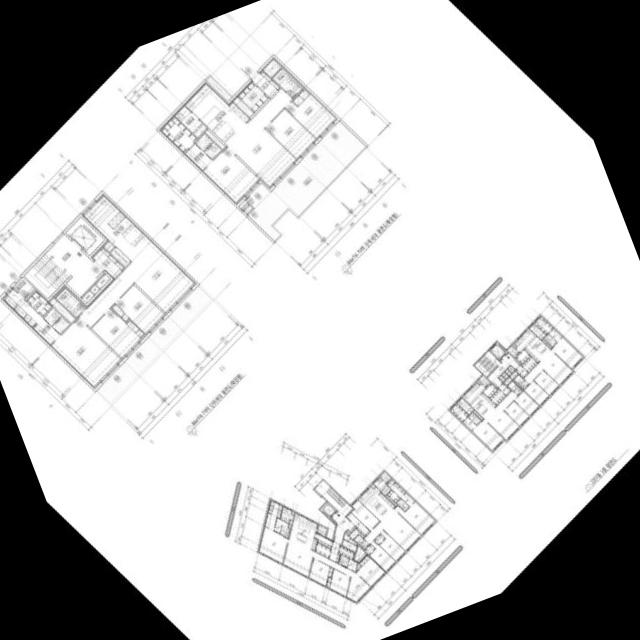background: (0, 0, 640, 640)
space_balconi: (380, 471, 392, 483), (317, 524, 327, 536)
space_bedroom: (51, 318, 122, 388), (203, 147, 260, 204), (111, 284, 166, 334), (286, 87, 338, 139), (92, 308, 146, 358), (266, 109, 317, 159), (395, 501, 436, 534), (259, 526, 288, 564), (472, 419, 504, 451), (551, 337, 584, 368), (356, 554, 386, 587), (351, 499, 379, 530), (380, 530, 406, 561), (370, 540, 396, 571), (326, 568, 351, 597), (309, 558, 334, 586), (514, 391, 540, 416), (534, 370, 560, 395), (505, 401, 530, 426), (525, 380, 550, 405), (365, 544, 375, 554), (375, 534, 385, 544)
space_dressroom: (2, 287, 43, 328), (160, 116, 197, 153), (26, 289, 52, 316), (534, 315, 553, 334), (450, 403, 469, 422), (387, 479, 406, 497), (268, 499, 283, 518), (388, 490, 400, 502)
space_elevator: (67, 217, 105, 254), (490, 342, 508, 360), (321, 502, 337, 518)
space_elevator_hall: (47, 233, 104, 297), (315, 480, 355, 544), (488, 353, 520, 387)
space_front: (92, 246, 125, 279), (252, 70, 280, 97), (347, 512, 370, 536), (521, 356, 538, 372), (490, 389, 506, 405), (339, 545, 355, 560), (316, 542, 331, 557), (330, 541, 340, 562), (499, 383, 511, 395), (516, 365, 528, 377)
space_kitchen: (82, 193, 153, 262), (185, 82, 250, 144), (358, 486, 395, 521), (462, 382, 496, 419), (514, 328, 551, 362), (290, 512, 318, 550), (516, 350, 530, 364), (484, 383, 498, 397)
space_living_room: (80, 241, 196, 327), (227, 88, 297, 188), (284, 539, 371, 602), (364, 508, 422, 551), (524, 350, 574, 385), (485, 390, 520, 440)
space_multipurpose_space: (174, 105, 208, 138)
space_other: (238, 81, 268, 112), (49, 297, 76, 323), (206, 76, 232, 101), (233, 96, 254, 117), (111, 247, 131, 267), (206, 130, 225, 149), (263, 59, 281, 77), (373, 477, 391, 495), (529, 322, 546, 340), (315, 532, 333, 549), (457, 397, 474, 414), (96, 273, 111, 288), (281, 506, 294, 523), (342, 539, 357, 551), (355, 545, 366, 561), (344, 533, 358, 545), (349, 528, 364, 539), (82, 290, 94, 303), (103, 240, 114, 251), (386, 495, 397, 505), (90, 284, 100, 294), (542, 339, 552, 348), (473, 410, 483, 419), (510, 371, 518, 379), (505, 377, 512, 385), (508, 365, 515, 372), (499, 375, 506, 382), (331, 518, 337, 525), (502, 372, 509, 378), (505, 369, 512, 375), (289, 519, 293, 528), (357, 563, 361, 570), (371, 483, 376, 488), (512, 343, 517, 348), (346, 530, 350, 534), (292, 510, 295, 515)
space_outdoor_room: (14, 277, 33, 296), (239, 200, 253, 214), (479, 375, 491, 387), (507, 345, 519, 357)
space_staircase: (24, 251, 71, 298), (475, 350, 501, 376), (327, 487, 347, 507)
space_toilet: (185, 133, 222, 171), (33, 307, 70, 345), (56, 288, 86, 317), (273, 68, 303, 97), (275, 518, 290, 537), (514, 374, 529, 389), (508, 380, 523, 395), (354, 534, 369, 549), (265, 512, 277, 530), (549, 328, 563, 342), (463, 417, 477, 430), (401, 493, 415, 506), (348, 558, 358, 571), (339, 558, 348, 567), (397, 498, 405, 507), (340, 554, 349, 562), (401, 502, 409, 511), (544, 334, 553, 342), (473, 416, 481, 425), (548, 338, 557, 346), (469, 412, 477, 420)
